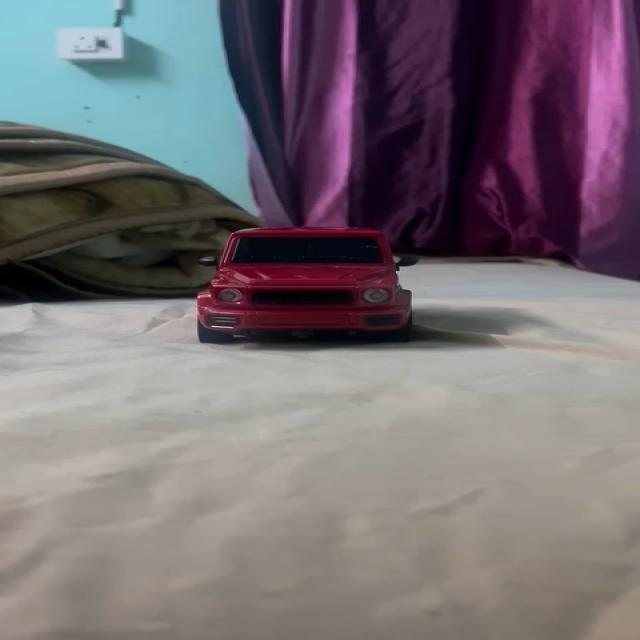light_vehicle: (191, 225, 413, 343)
